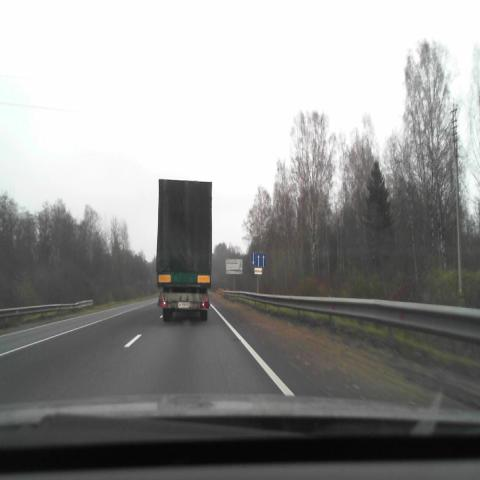5_15_7: (250, 252, 266, 267)
